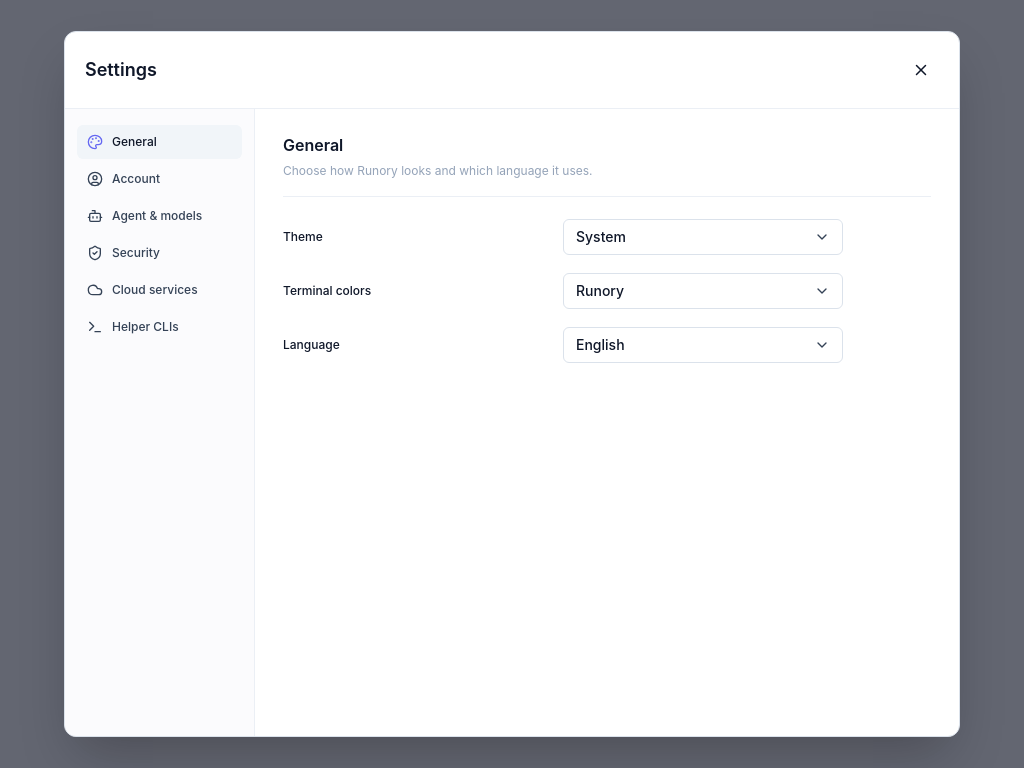
Test: settings controls (en-US) › restores persisted settings and reports a failed write
Press ArrowDown in the dropdown labelled "System", box [563, 219, 843, 255]
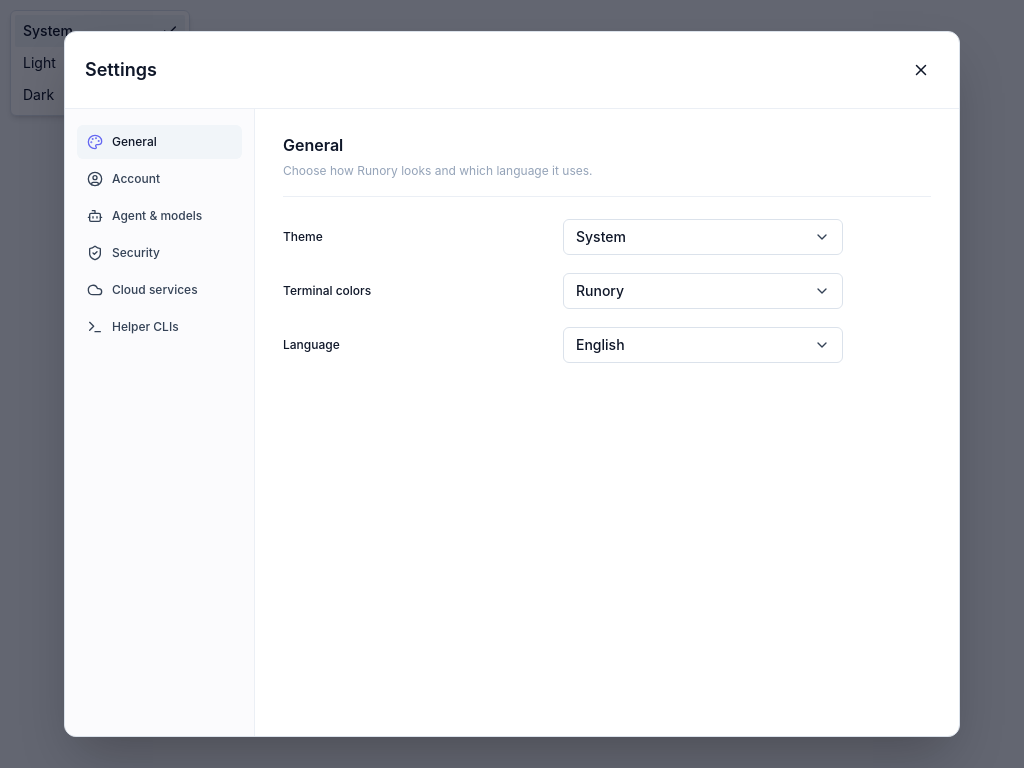
Click the option "Dark".
click(39, 94)  # box [23, 86, 54, 103]
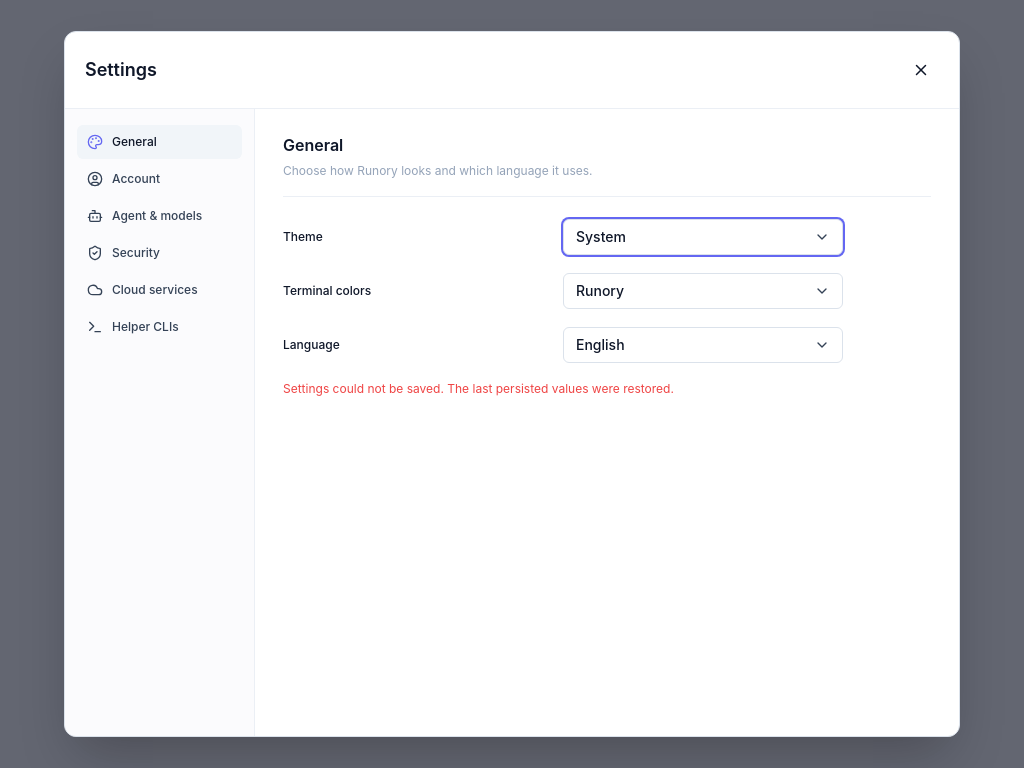
Check: the text "Settings could not be saved. The last persisted values were restored." is shown, box [283, 381, 674, 396]
